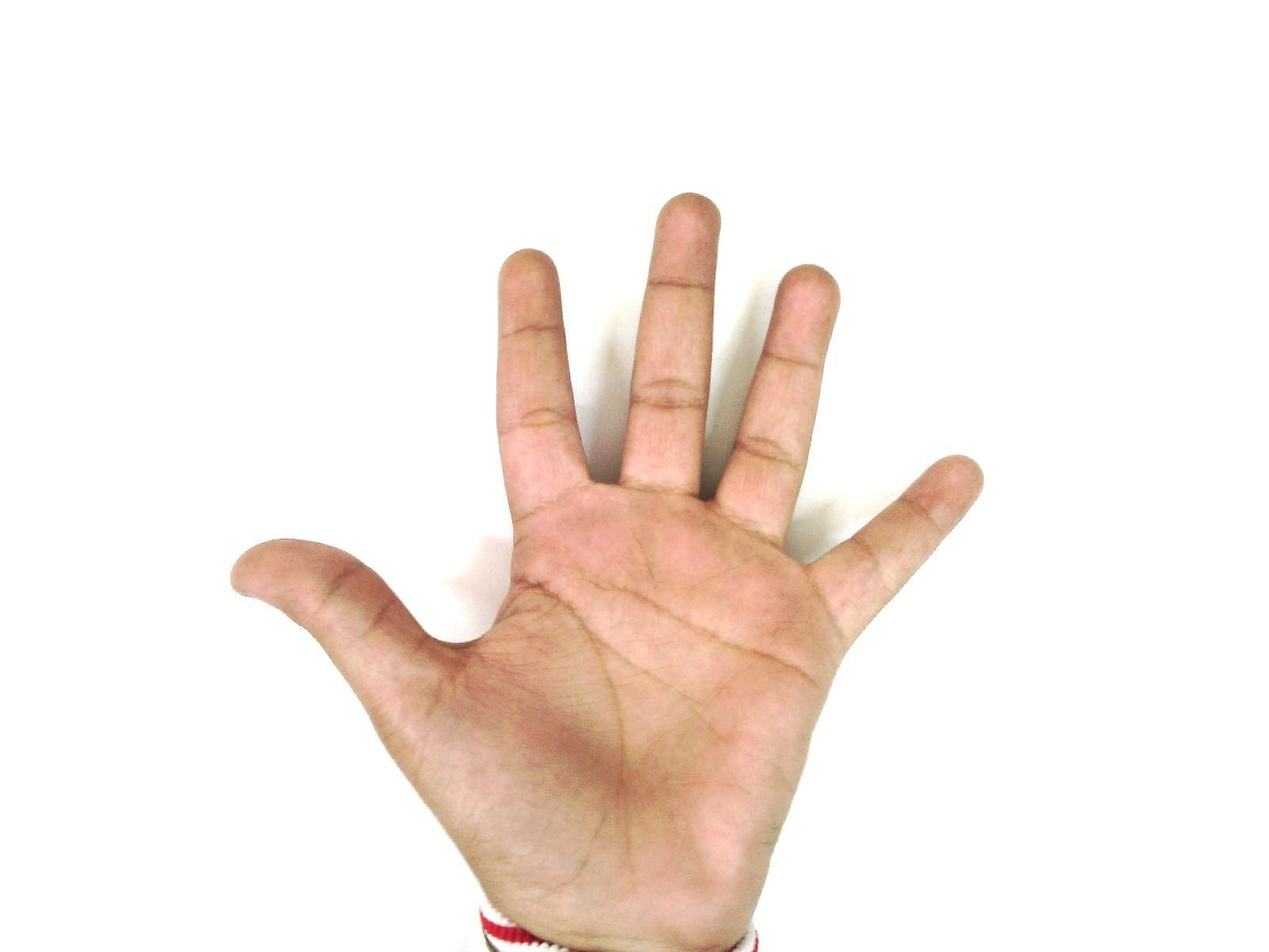open_palm: (229, 191, 987, 950)
